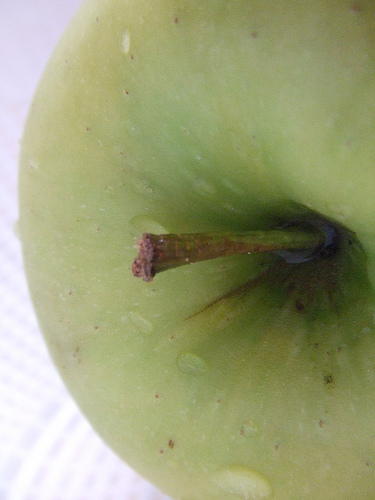apple: (15, 0, 373, 497)
